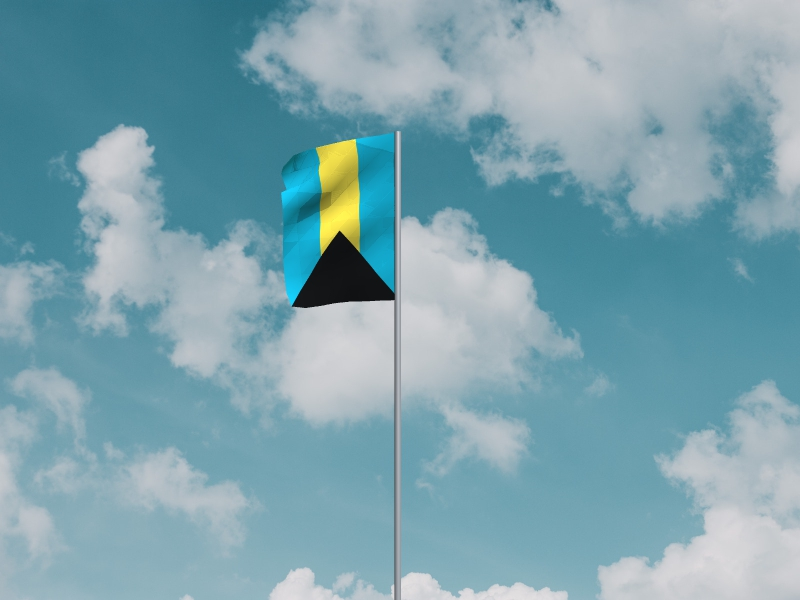bs: (281, 134, 395, 310)
